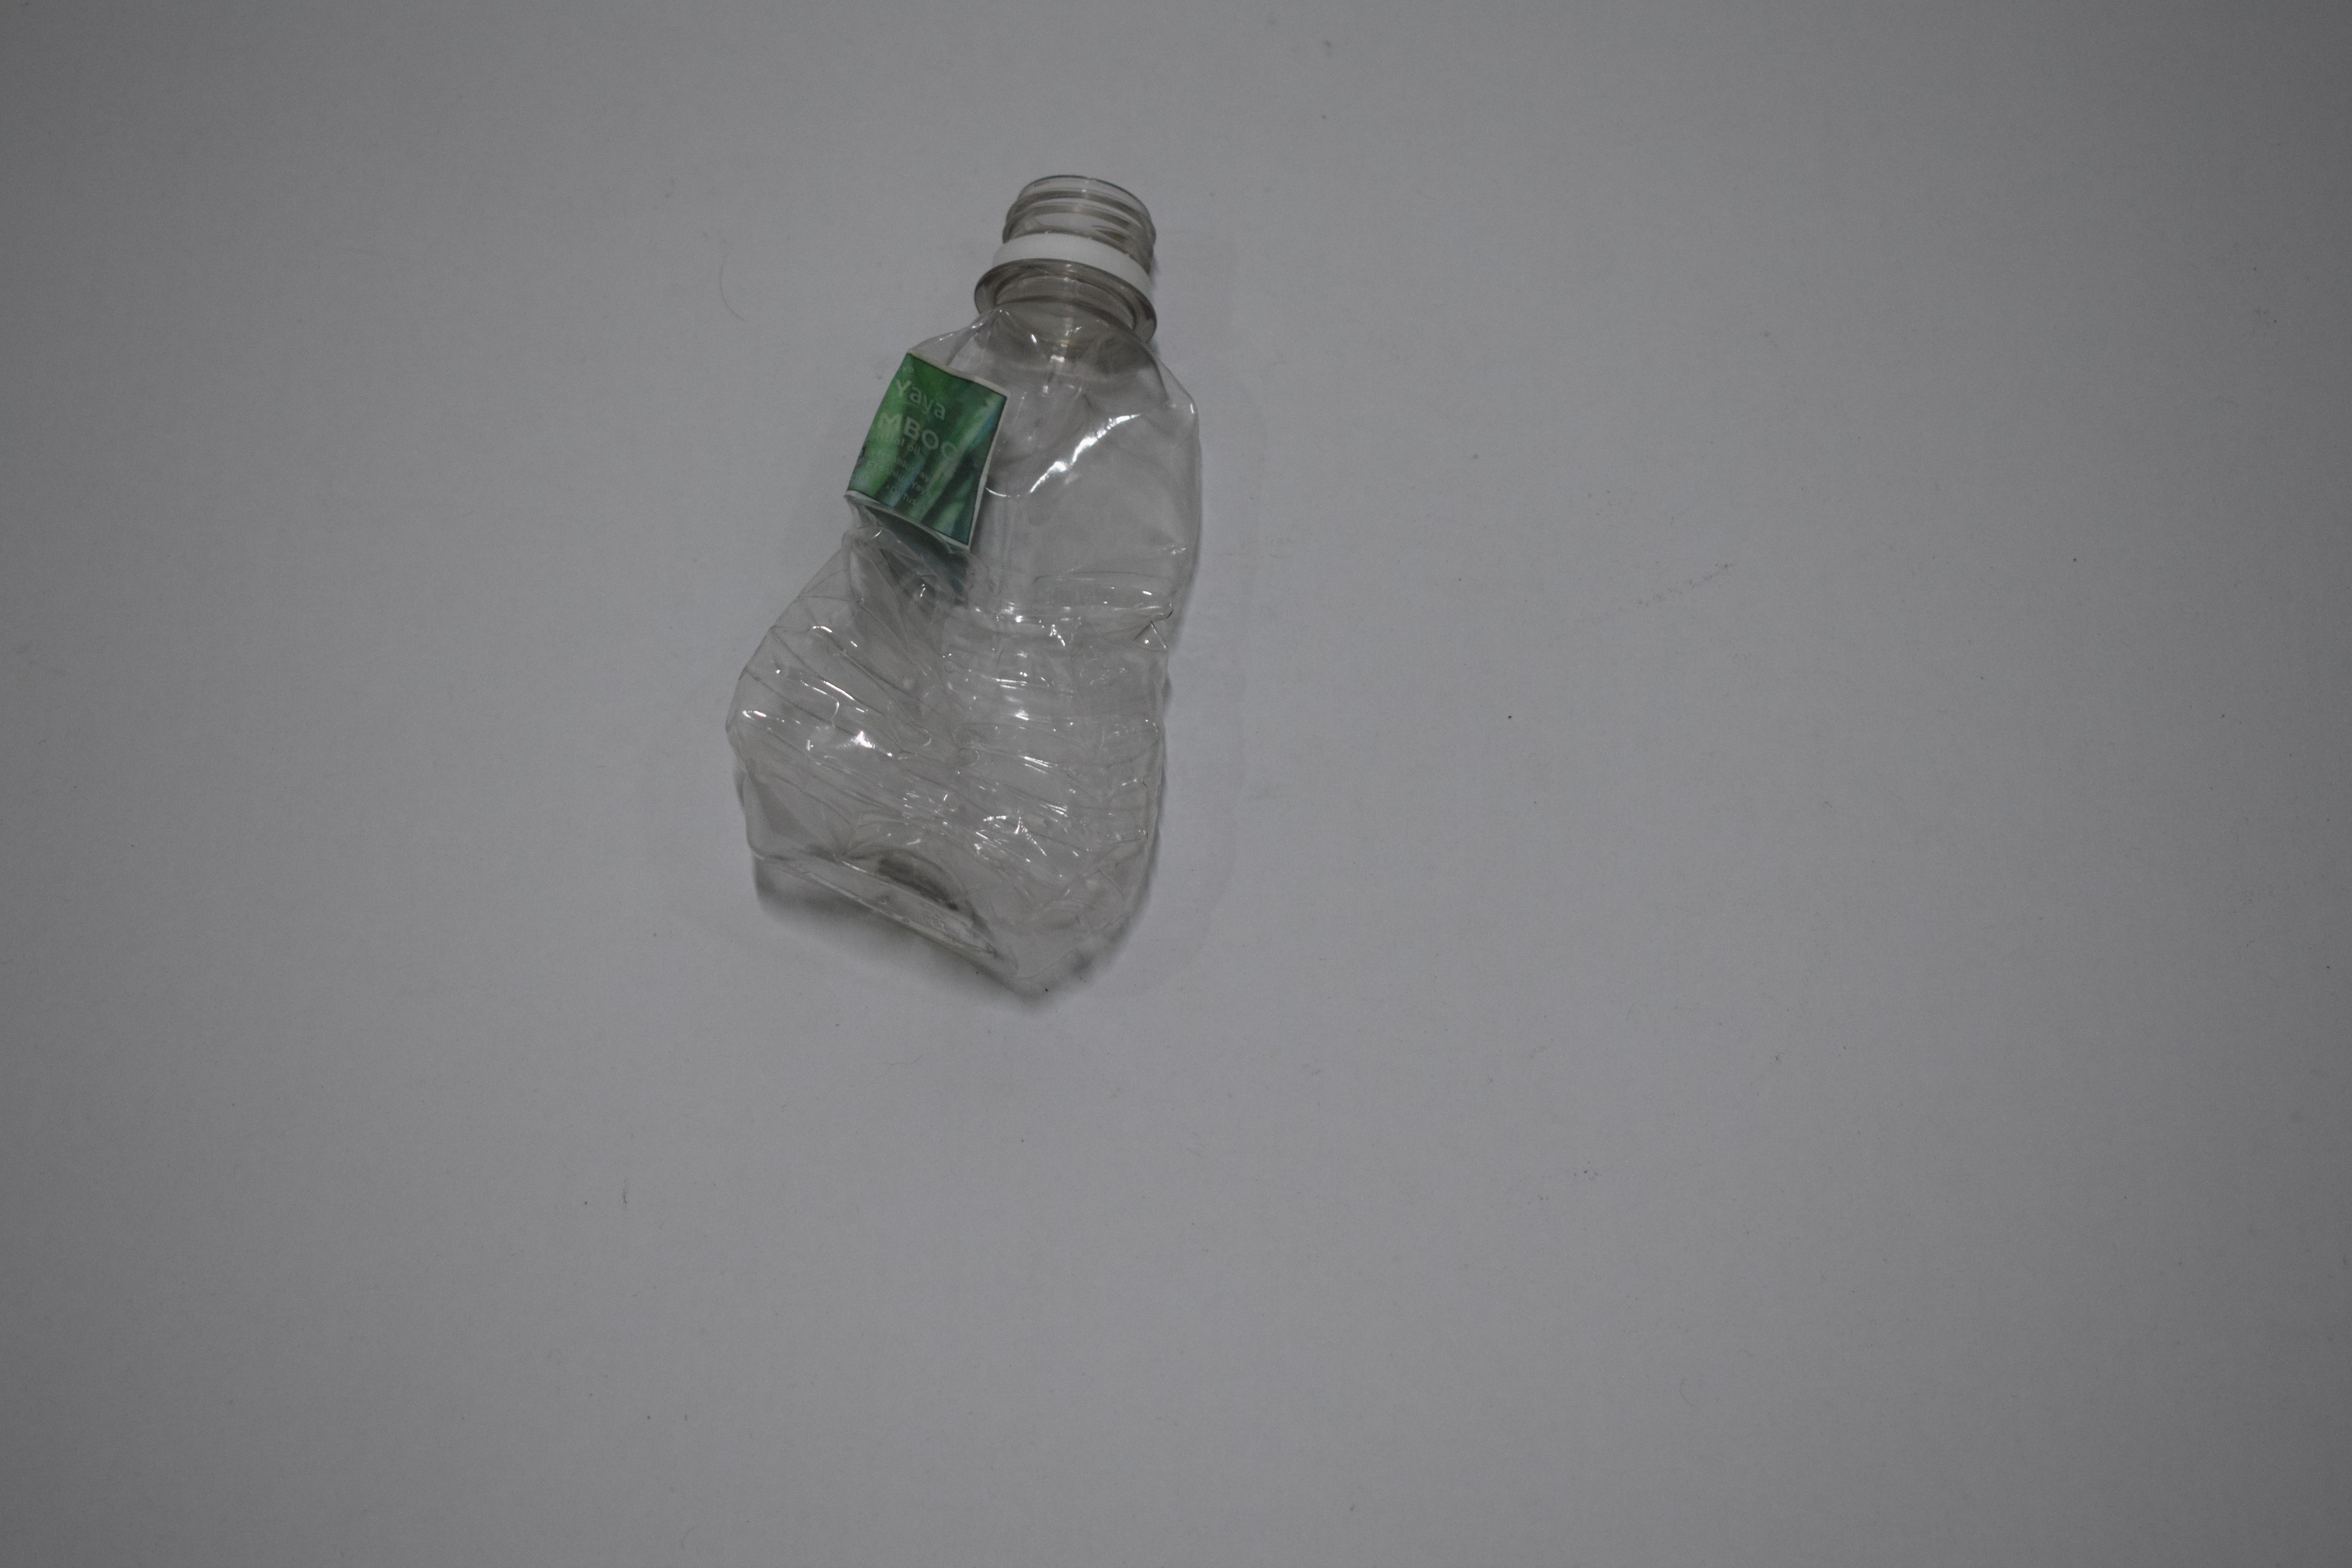bottle: (717, 556, 1214, 623)
